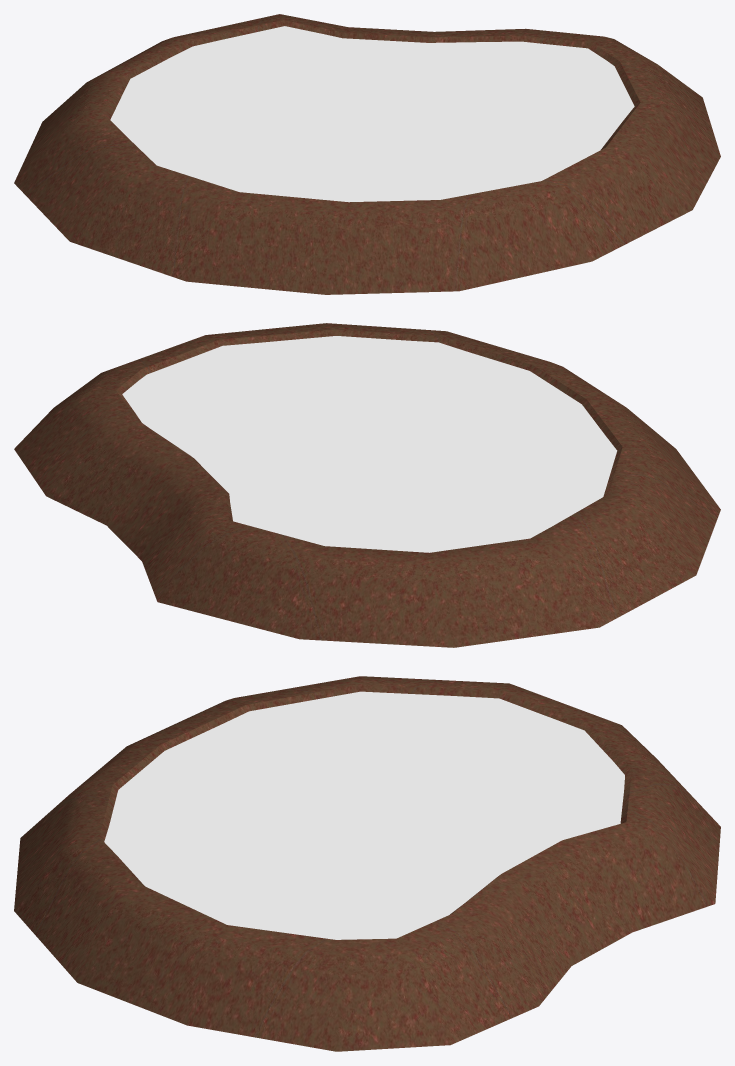
File: HotSpring2.fbx
3 renders of one model, top to bottom at view 1: azimuth 30°, elevation 25°; view 2: azimuth 150°, elevation 25°; view 3: azimuth 270°, elevation 25°, orthographic. The views are drawn at different scales.
Parts seen in each view (by area): view 1: HotSpring2; view 2: HotSpring2; view 3: HotSpring2.
Part boxes in pixels (x1,y1,x2,y2): HotSpring2: (14,14,720,294); HotSpring2: (14,323,720,647); HotSpring2: (14,676,720,1051).
Bounding box in the file's own units: 123808 × 144612 × 12600.
2 materials, 1 textured.
